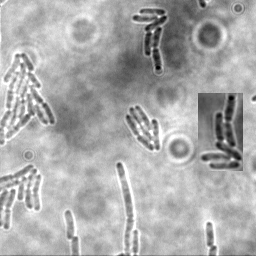Dividing: (114, 161, 133, 255), (204, 221, 215, 248)
Microcolony: (1, 51, 56, 147), (198, 93, 243, 171), (1, 162, 44, 231), (130, 8, 167, 72), (124, 106, 160, 153), (63, 208, 74, 240)
